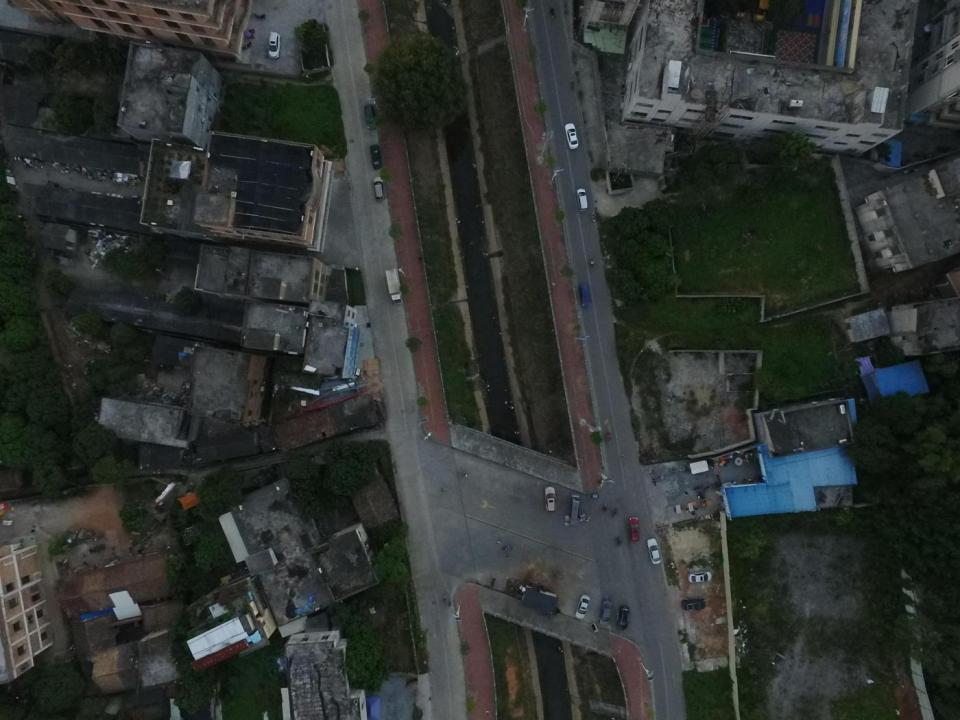car: (564, 122, 580, 150), (267, 32, 282, 59), (575, 594, 590, 619), (364, 102, 377, 130), (647, 538, 661, 564), (627, 516, 640, 543), (369, 144, 383, 169), (599, 599, 612, 625), (544, 486, 557, 512), (682, 597, 706, 611), (373, 176, 385, 202), (617, 606, 630, 630), (687, 571, 712, 583), (579, 283, 591, 307)
truck: (384, 267, 404, 306)
van: (569, 493, 581, 518), (576, 188, 589, 211)
